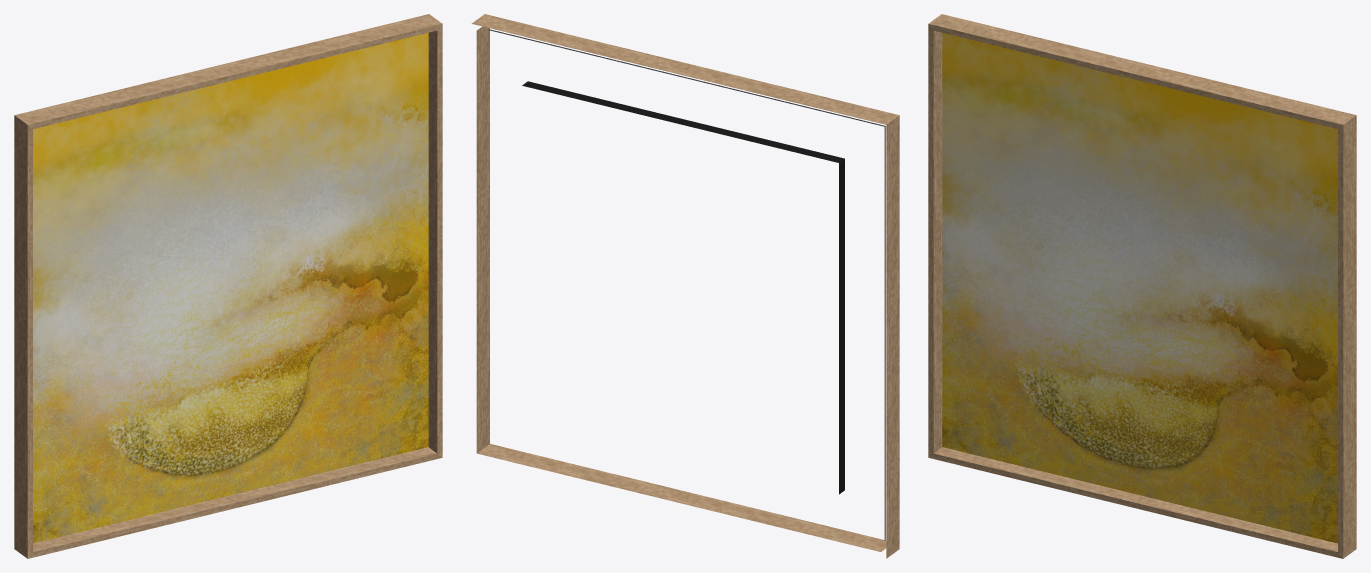
Rendered from va296_moyen_caisse-chene.glb.
3 views of the same model, side by side, from view 1: azimuth 30°, elevation 25°; view 2: azimuth 150°, elevation 25°; view 3: azimuth 330°, elevation 25° (orthographic).
Visible parts, largest first — view 1: va296_moyen_caisse-chene; view 2: va296_moyen_caisse-chene; view 3: va296_moyen_caisse-chene.
Part boxes in pixels (x1,y1,x2,y2): va296_moyen_caisse-chene: (14,14,442,558); va296_moyen_caisse-chene: (471,14,899,558); va296_moyen_caisse-chene: (928,14,1356,558).
Size of the model in its own units: 0.628 by 0.628 by 0.035.
4 materials, 2 textured.
